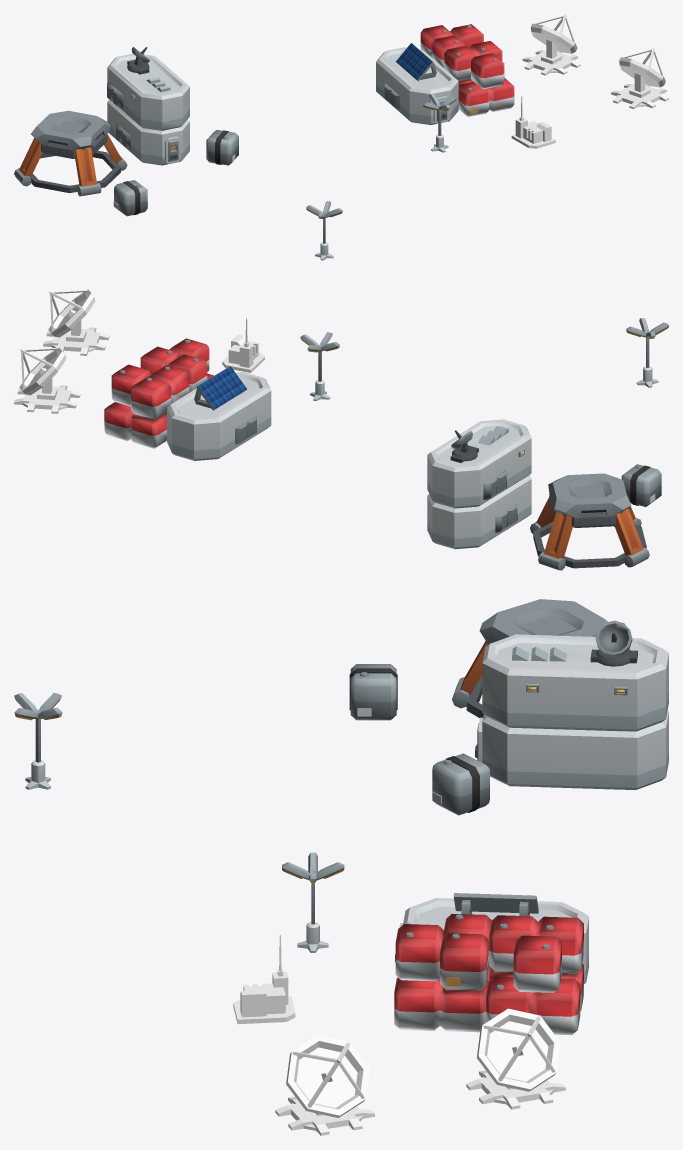
The model's file is Research_4.glb.
The picture shows the model from 3 angles, top to bottom: view 1: azimuth 30°, elevation 25°; view 2: azimuth 150°, elevation 25°; view 3: azimuth 270°, elevation 25°; orthographic projection. The views are drawn at different scales.
Visible parts, largest first — view 1: cargodepot_C.001, structure_low, cargodepot_C.002, cargodepot_C, satelliteDish_detailed, satelliteDish_detailed.001, cargo_B_packed, cargo_B_packed.001, machine_wirelessCable, lights.001, lights; view 2: cargodepot_C.001, structure_low, cargodepot_C, cargodepot_C.002, satelliteDish_detailed, satelliteDish_detailed.001, cargo_B_packed, machine_wirelessCable, lights.001, lights; view 3: cargodepot_C.001, cargodepot_C.002, satelliteDish_detailed.001, satelliteDish_detailed, structure_low, cargodepot_C, cargo_B_packed.001, cargo_B_packed, machine_wirelessCable, lights, lights.001.
Boxes of the visible parts, bbox=[...] form: cargodepot_C.001: bbox=[107, 47, 189, 165]; structure_low: bbox=[14, 110, 127, 196]; cargodepot_C.002: bbox=[420, 24, 514, 116]; cargodepot_C: bbox=[376, 43, 458, 125]; satelliteDish_detailed: bbox=[522, 14, 580, 75]; satelliteDish_detailed.001: bbox=[611, 48, 668, 108]; cargo_B_packed: bbox=[113, 180, 147, 216]; cargo_B_packed.001: bbox=[206, 130, 238, 165]; machine_wirelessCable: bbox=[511, 96, 555, 148]; lights.001: bbox=[423, 94, 456, 152]; lights: bbox=[306, 201, 342, 260]; cargodepot_C.001: bbox=[427, 419, 531, 549]; structure_low: bbox=[530, 473, 649, 570]; cargodepot_C: bbox=[167, 366, 271, 460]; cargodepot_C.002: bbox=[104, 338, 213, 448]; satelliteDish_detailed: bbox=[14, 347, 80, 413]; satelliteDish_detailed.001: bbox=[43, 289, 109, 355]; cargo_B_packed: bbox=[621, 464, 661, 506]; machine_wirelessCable: bbox=[222, 318, 264, 372]; lights.001: bbox=[300, 332, 339, 400]; lights: bbox=[626, 318, 668, 387]; cargodepot_C.001: bbox=[475, 620, 668, 789]; cargodepot_C.002: bbox=[394, 913, 583, 1035]; satelliteDish_detailed.001: bbox=[275, 1035, 374, 1135]; satelliteDish_detailed: bbox=[466, 1008, 565, 1109]; structure_low: bbox=[452, 599, 607, 717]; cargodepot_C: bbox=[395, 893, 588, 983]; cargo_B_packed.001: bbox=[432, 753, 489, 815]; cargo_B_packed: bbox=[349, 664, 397, 720]; machine_wirelessCable: bbox=[233, 934, 295, 1024]; lights: bbox=[14, 693, 62, 789]; lights.001: bbox=[282, 852, 344, 952].
Size of the model in its own units: 12.23 by 1.86 by 7.11.
Materials: 5 (4 with a texture image).
